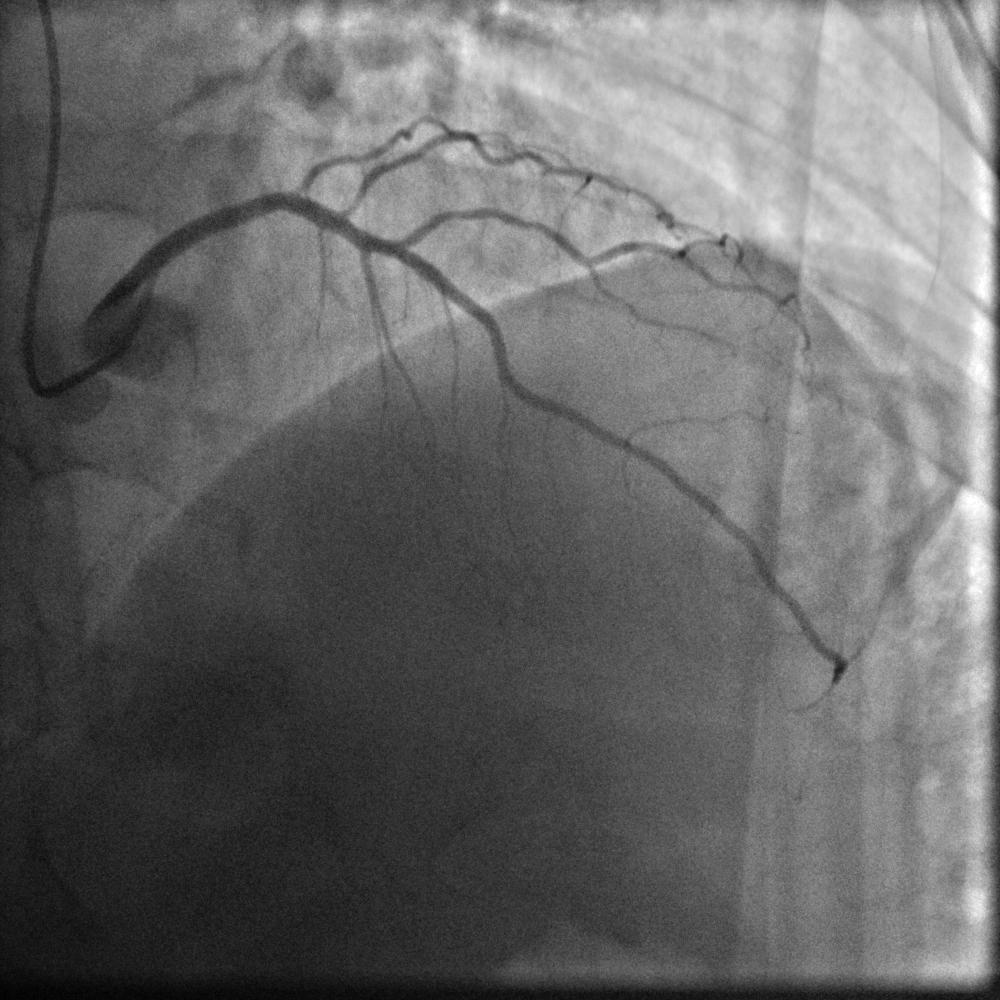Stenosis: (296, 163, 364, 215)
